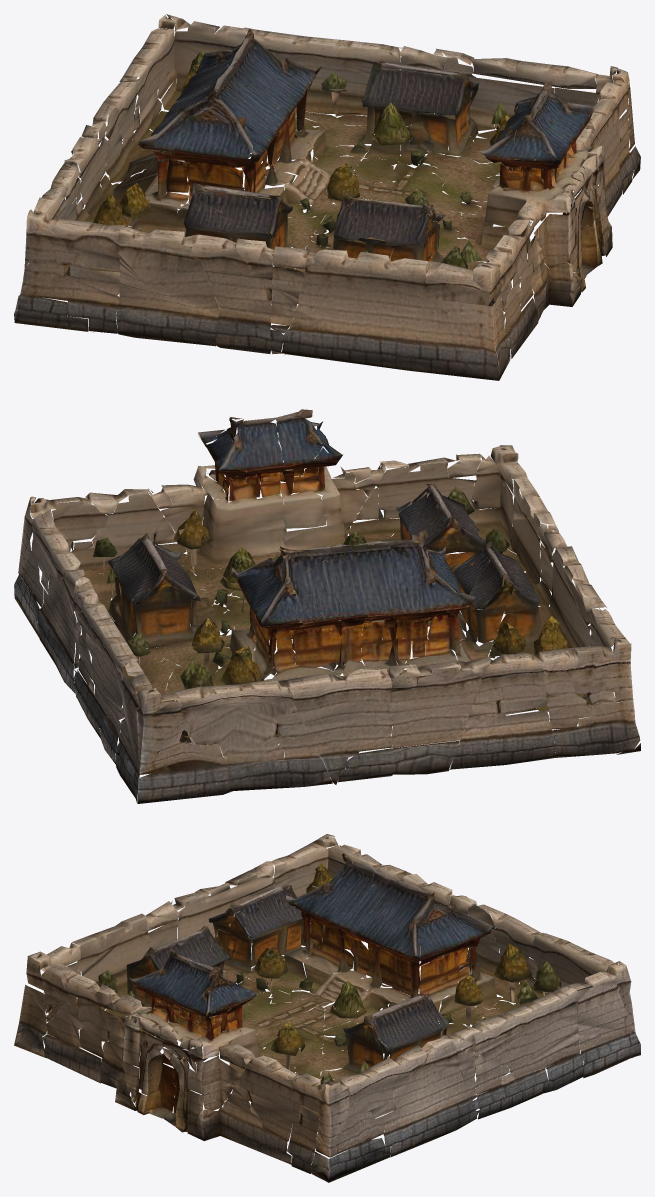
Rendered from city-county.glb.
The picture shows the model from 3 angles, top to bottom: view 1: azimuth 30°, elevation 25°; view 2: azimuth 150°, elevation 25°; view 3: azimuth 270°, elevation 25°; orthographic projection. The views are drawn at different scales.
Visible parts, largest first — view 1: x-city-county; view 2: x-city-county; view 3: x-city-county.
Part boxes in pixels (x1,y1,x2,y2): x-city-county: [14, 14, 640, 380]; x-city-county: [14, 409, 640, 803]; x-city-county: [14, 834, 640, 1182].
Size of the model in its own units: 0.6781 by 0.1873 by 0.6789.
Materials: 1 (1 with a texture image).
